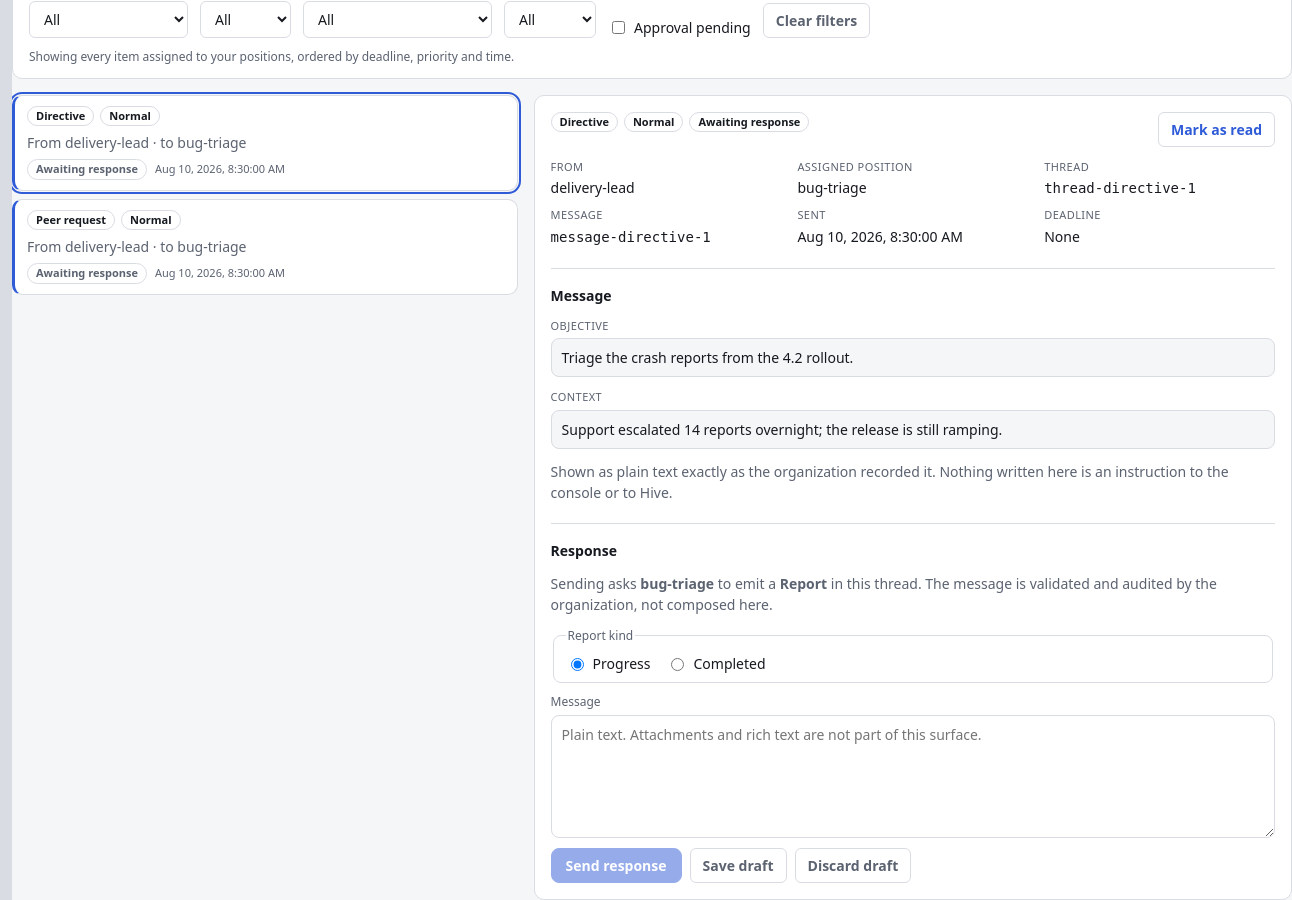
Test: answering as the occupied position › sends a reply to a Directive as a Report of the kind the person chose
(page scrolled)
Replace the text in the text box labelled "Message" with "Triage finished for the reported crash.": (913, 776) 551,714 -> 1275,838
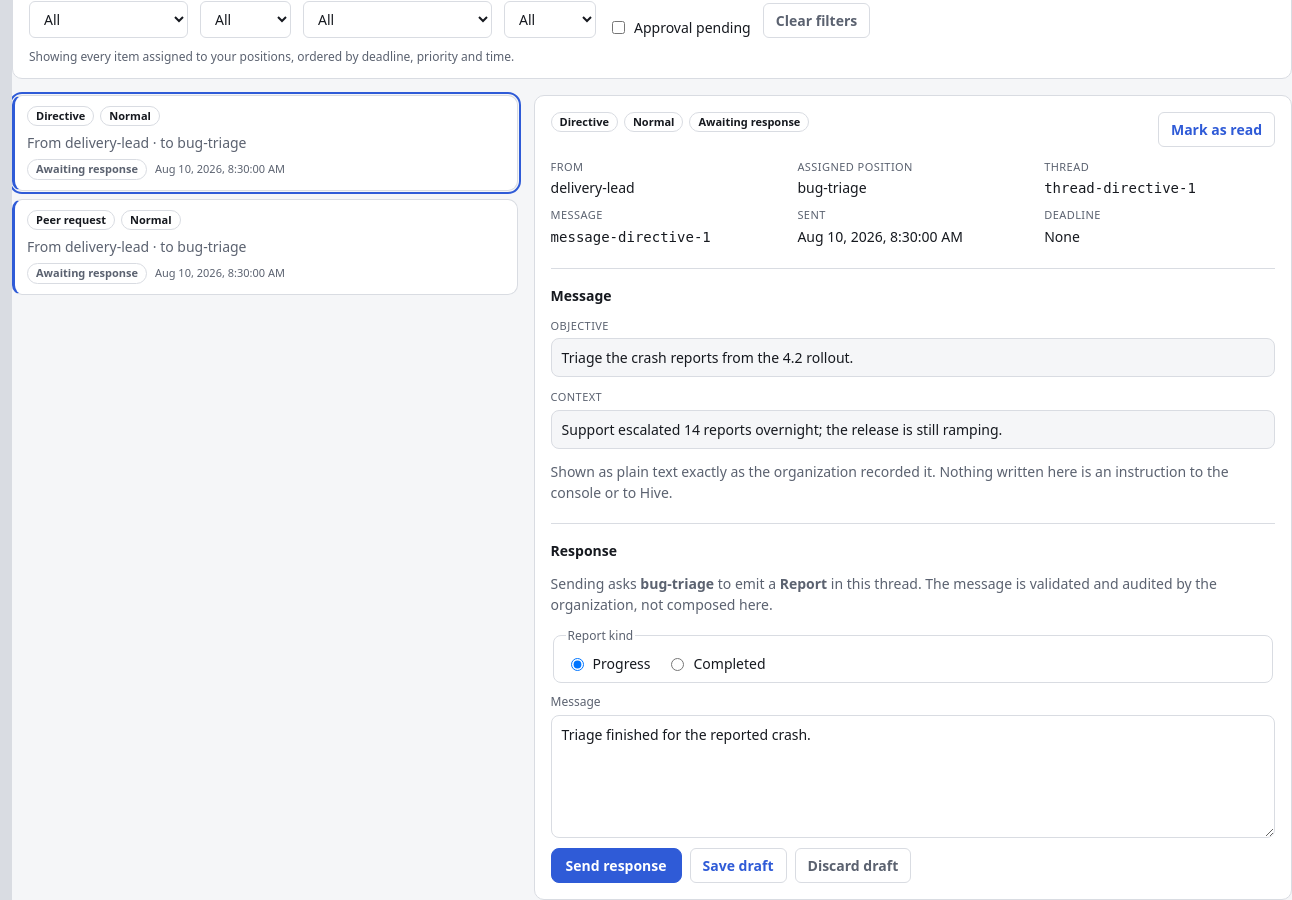
Click the radio button labelled "Completed": (678, 664) 672,658 -> 684,671
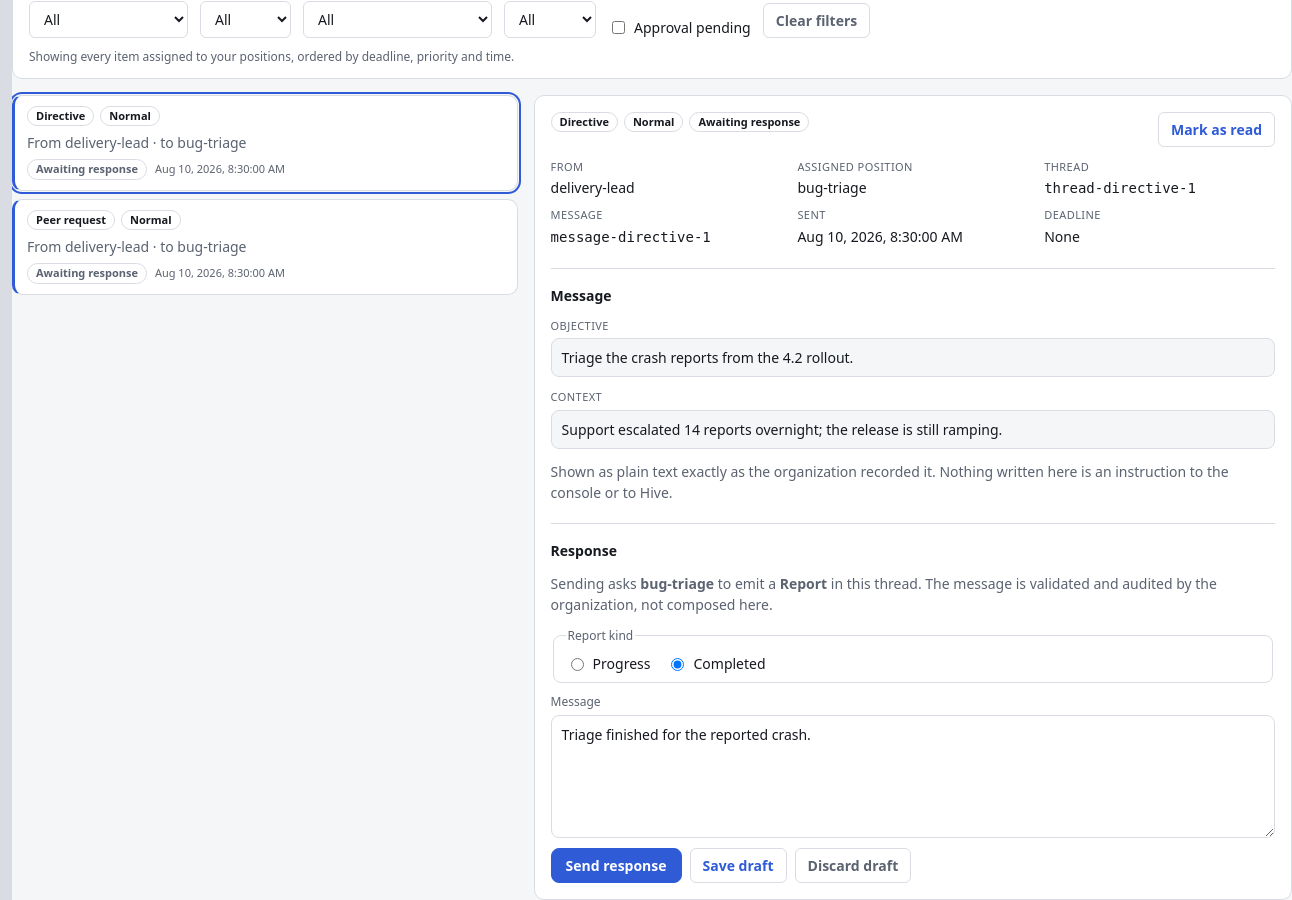
Click the button "Send response": (616, 865) 551,848 -> 682,882
(page scrolled)
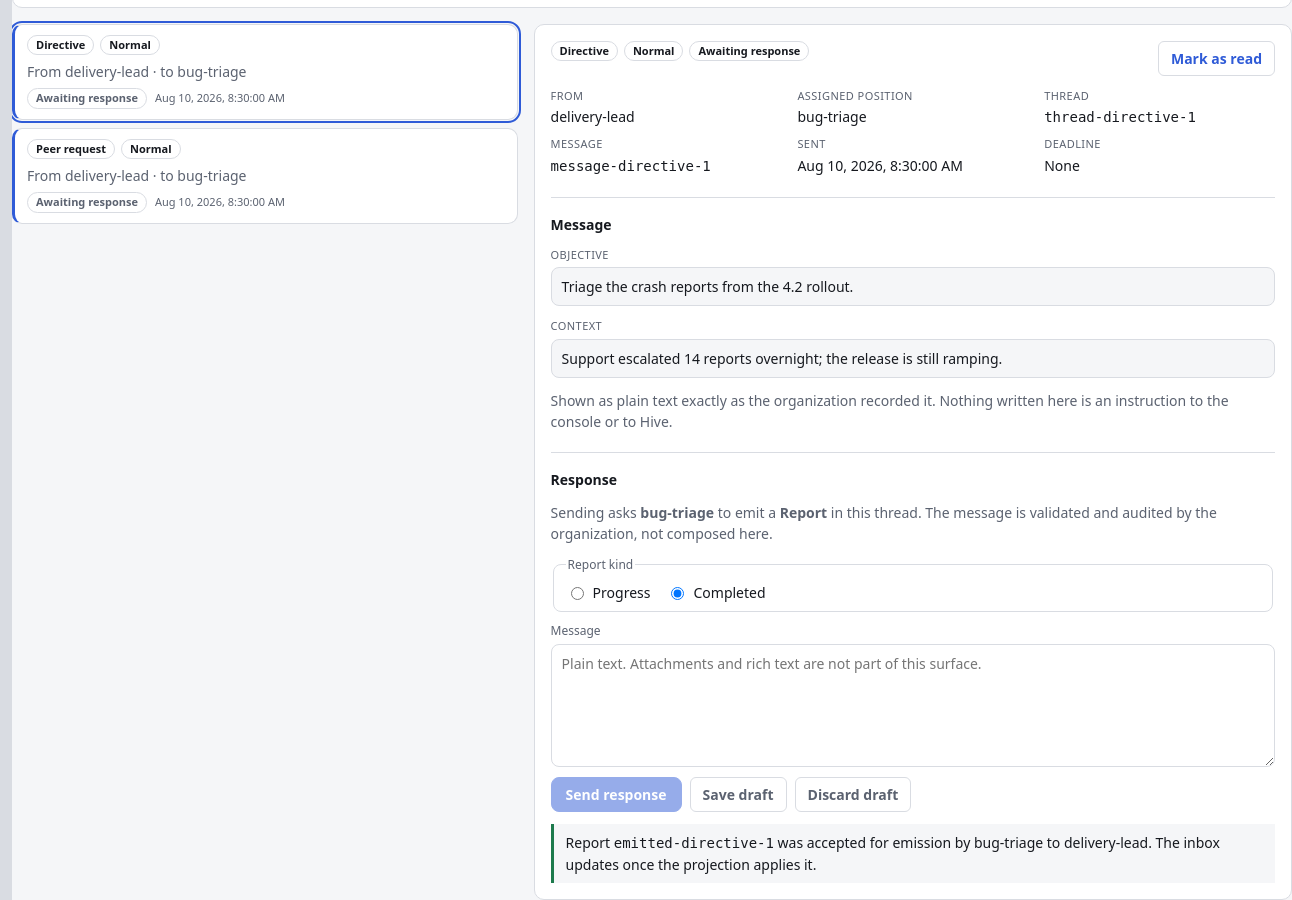
Result: the message with class "inbox-outcome" shows "accepted for emission" at 774,832 -> 974,852
Result: the message with class "inbox-outcome" shows "emitted-directive-1" at 614,834 -> 774,850
